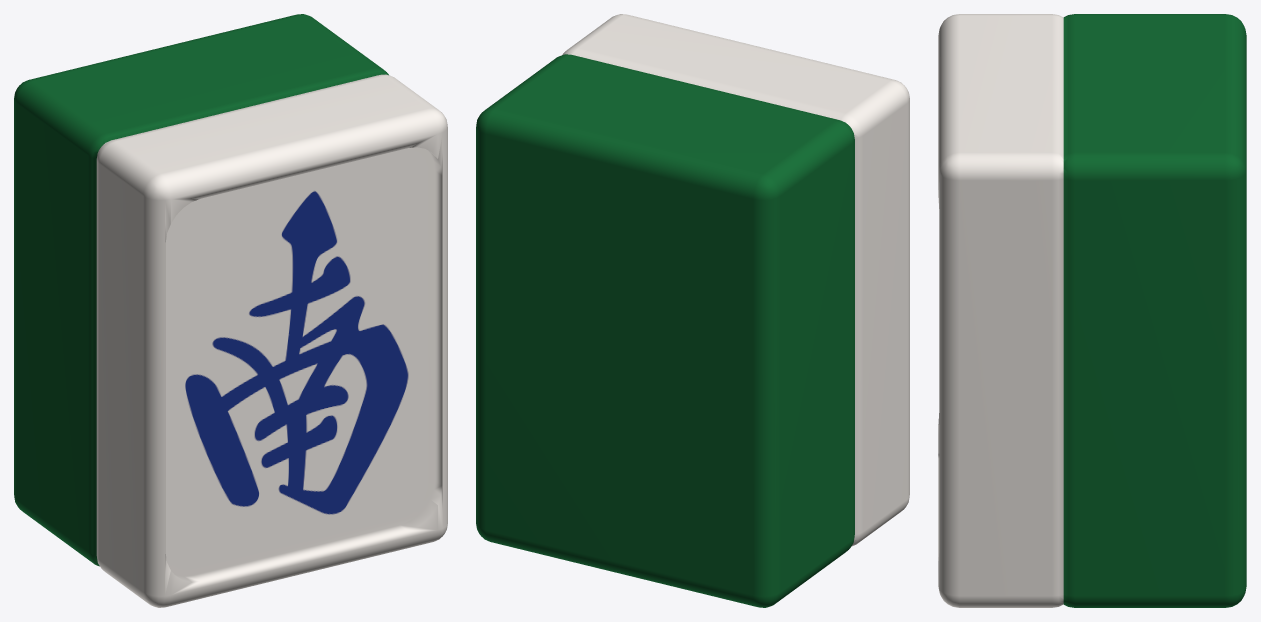
File: nan-khr06dxy.glb
3 views of the same model, side by side, from view 1: azimuth 30°, elevation 25°; view 2: azimuth 150°, elevation 25°; view 3: azimuth 270°, elevation 25° (orthographic). The views are drawn at different scales.
Parts seen in each view (by area): view 1: TileBody, FacePanel; view 2: TileBody; view 3: TileBody.
Part boxes in pixels (bbox=[...]): TileBody: bbox=[14, 14, 447, 607]; FacePanel: bbox=[165, 148, 428, 569]; TileBody: bbox=[476, 14, 909, 607]; TileBody: bbox=[938, 14, 1246, 607].
Size of the model in its own units: 19 by 26 by 16.
3 materials, 1 textured.
